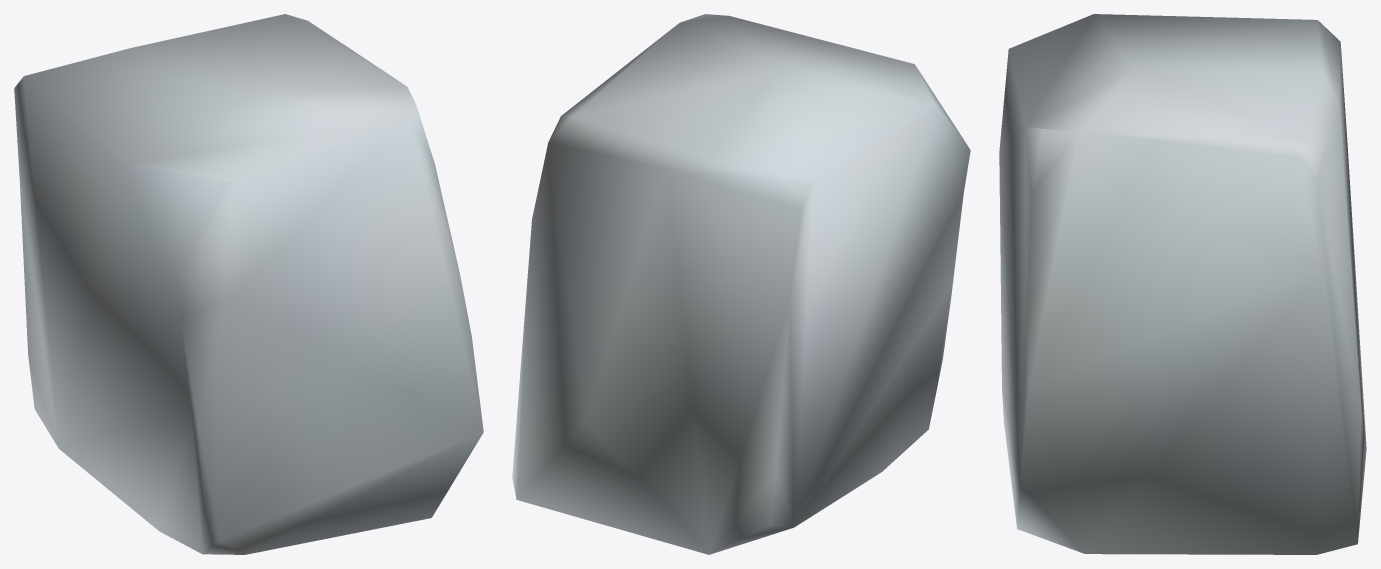
File: P_RockCubic03.obj
3 views of the same model, side by side, from view 1: azimuth 30°, elevation 25°; view 2: azimuth 150°, elevation 25°; view 3: azimuth 270°, elevation 25° (orthographic). The views are drawn at different scales.
Size of the model in its own units: 0.6468 by 0.7643 by 0.6307.
